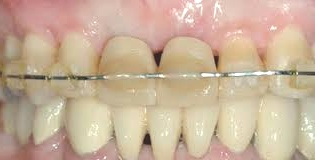Tooth Discoloration: (94, 53, 217, 96)
